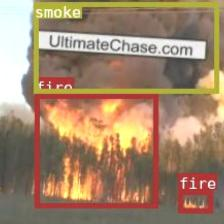fire: (34, 94, 157, 207), (177, 190, 212, 212)
smoke: (33, 2, 218, 92)
